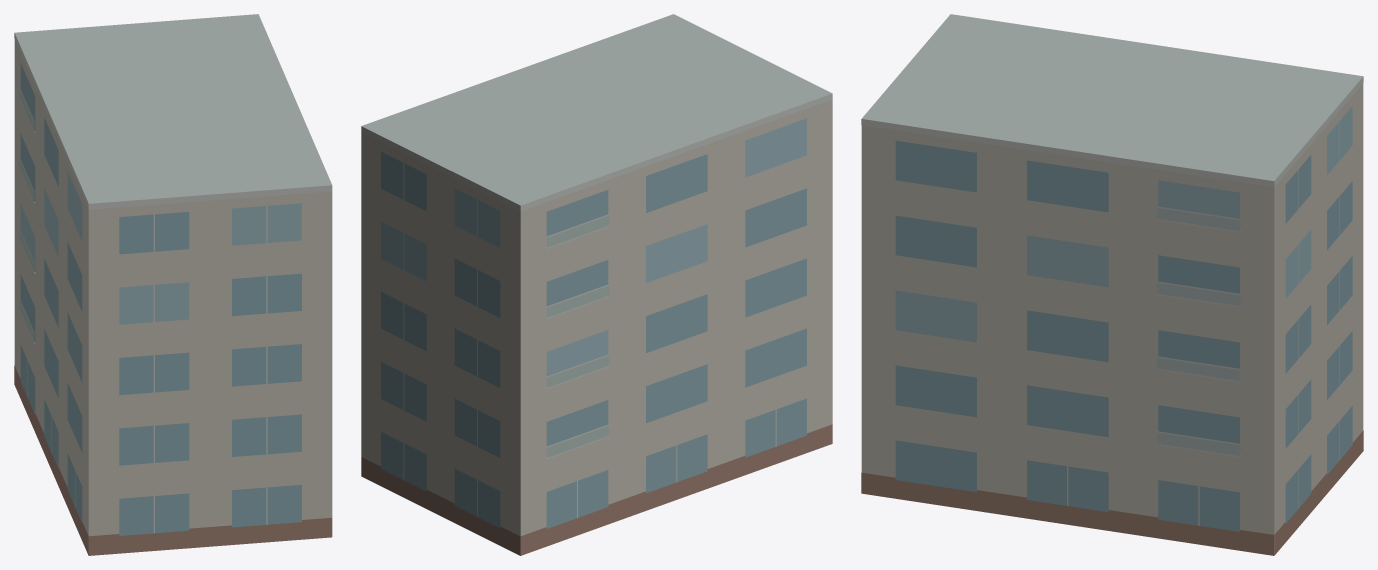
File: survey-upis-32890039.glb
3 renders of one model, left to right at view 1: azimuth 30°, elevation 25°; view 2: azimuth 150°, elevation 25°; view 3: azimuth 270°, elevation 25°, orthographic. The views are drawn at different scales.
Parts seen in each view (by area): view 1: survey-upis-32890039.tmp; view 2: survey-upis-32890039.tmp; view 3: survey-upis-32890039.tmp.
Boxes of the visible parts, x1=… form: survey-upis-32890039.tmp: x1=14, y1=14, x2=332, y2=555; survey-upis-32890039.tmp: x1=361, y1=14, x2=832, y2=555; survey-upis-32890039.tmp: x1=861, y1=14, x2=1363, y2=555.
Bounding box in the file's own units: 14.03 × 14.65 × 17.8.
